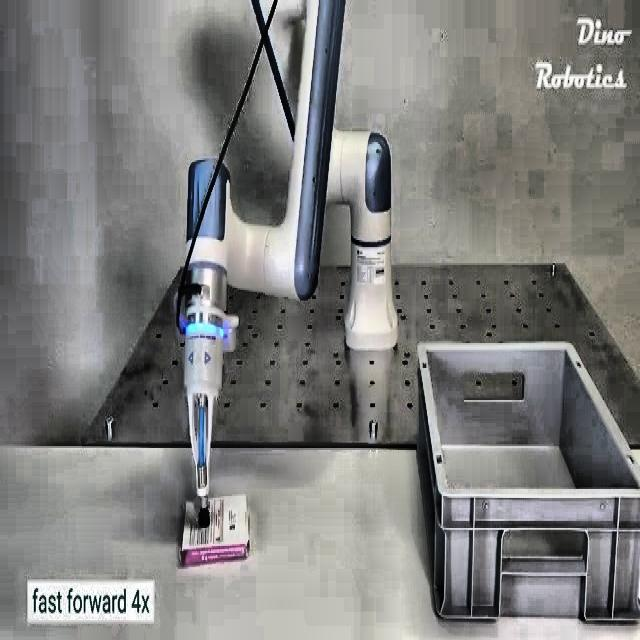robot: (173, 0, 398, 540)
